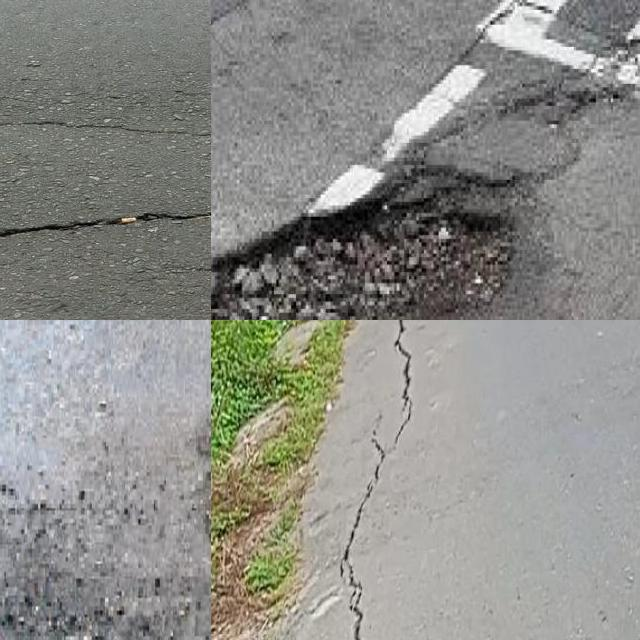Lubang: (211, 159, 531, 320)
Melintang: (0, 200, 211, 252)
Memanjang: (329, 320, 422, 640)
